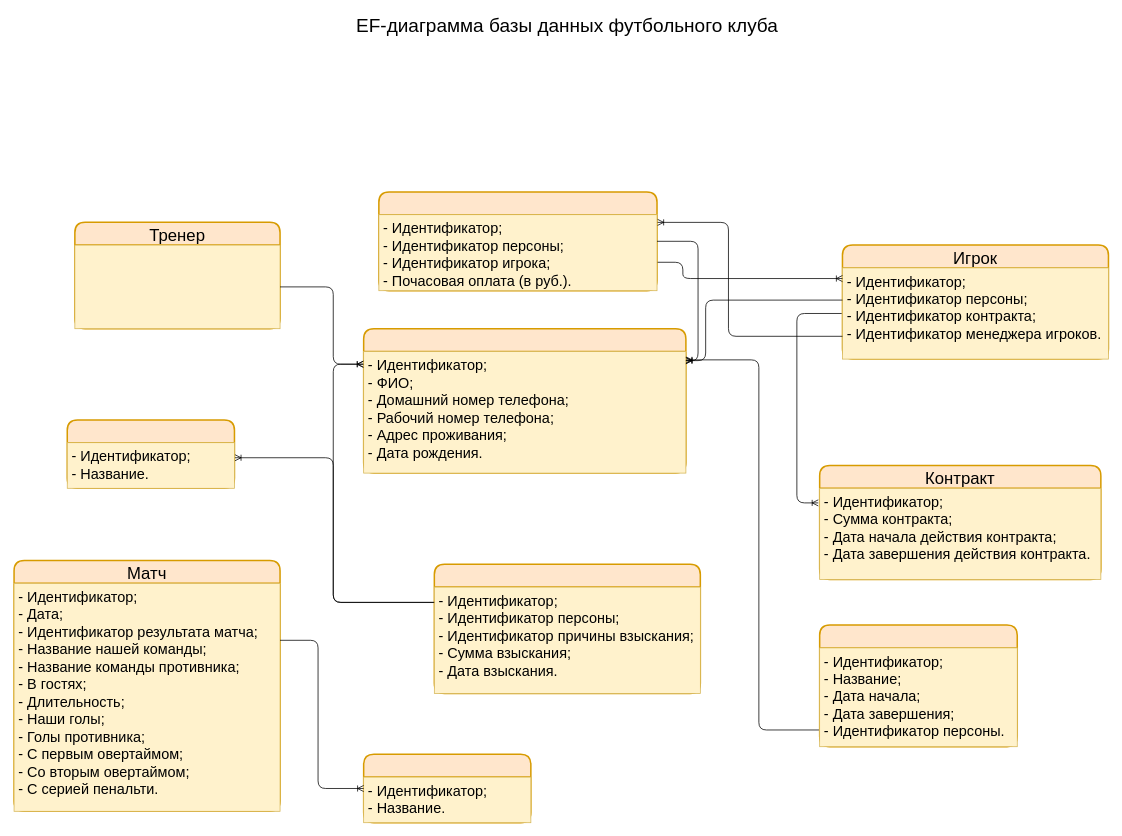
Some shapes in this 1122 by 836 pixel diagram are drawn without their labels. Here are the shapes that lost their labels. From the top down, the box of each, then its label:
(378, 191, 657, 291): Персональные менеджеры игроков
(74, 244, 280, 329): - Идентификатор; - Идентификатор персоны; - Почасовая оплата (в руб.).
(363, 328, 686, 473): Персона (персональная информаация)
(66, 419, 235, 489): Причина взыскания
(433, 563, 701, 694): Взыскание
(819, 624, 1018, 747): Дисквалификация
(363, 753, 531, 823): Результат матча
